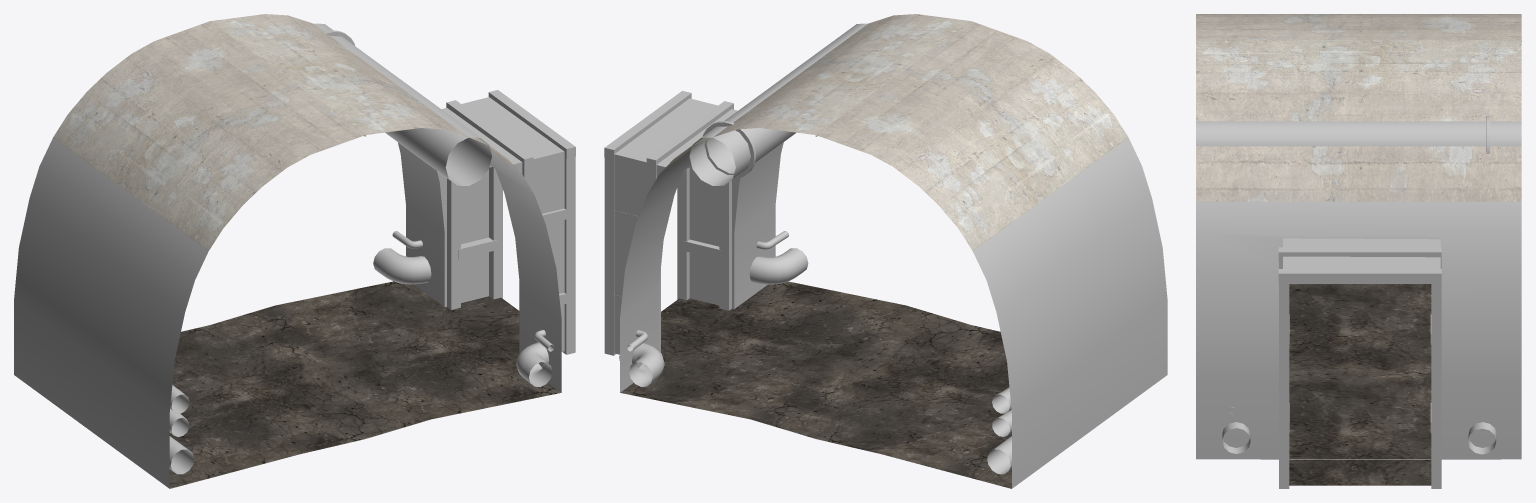
Rendered from Corridor_wal_door_L.FBX.
3 renders of one model, left to right at view 1: azimuth 30°, elevation 25°; view 2: azimuth 150°, elevation 25°; view 3: azimuth 270°, elevation 25°, orthographic. The views are drawn at different scales.
Visible parts, largest first — view 1: Corridor_wal_door_L, Corridor_floor_door_L, Door_plank_corridor001, Tube_big_07, Tube_con_L001, Tube_warm012, Tube019; view 2: Corridor_wal_door_L, Corridor_floor_door_L, Door_plank_corridor001, Tube_big_07, Tube_con_L001, Tube_warm012, Tube019; view 3: Corridor_wal_door_L, Corridor_floor_door_L, Door_plank_corridor001, Tube_big_07, Tube_con_L001.
Part boxes in pixels (x1,y1,x2,y2): Corridor_wal_door_L: (14,14,564,488); Corridor_floor_door_L: (169,281,560,488); Door_plank_corridor001: (446,90,575,354); Tube_big_07: (314,23,491,185); Tube_con_L001: (373,248,552,386); Tube_warm012: (169,385,189,436); Tube019: (169,436,194,474); Corridor_wal_door_L: (614,14,1167,488); Corridor_floor_door_L: (620,281,1011,488); Door_plank_corridor001: (604,91,733,355); Tube_big_07: (689,23,867,185); Tube_con_L001: (619,248,808,386); Tube_warm012: (992,387,1011,436); Tube019: (987,436,1011,474); Corridor_wal_door_L: (1196,14,1521,459); Corridor_floor_door_L: (1289,284,1431,485); Door_plank_corridor001: (1278,247,1441,488); Tube_big_07: (1196,116,1521,153); Tube_con_L001: (1222,422,1496,454).
Size of the model in its own units: 569 by 376 by 345.
